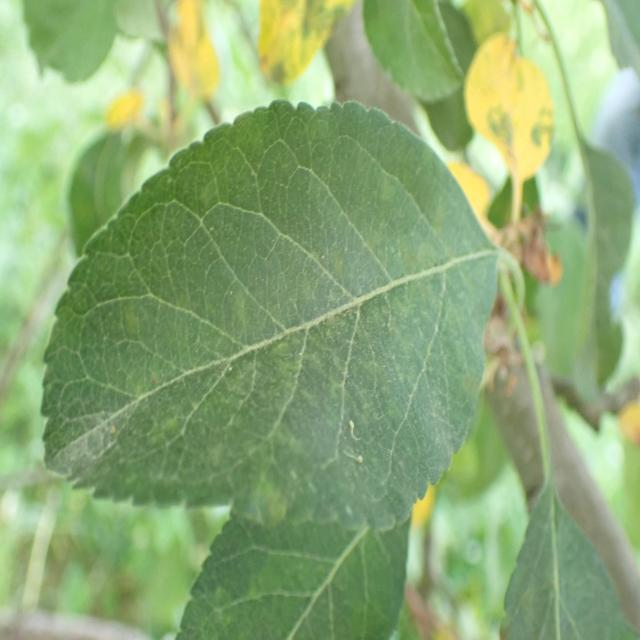scab: (40, 208, 504, 516)
